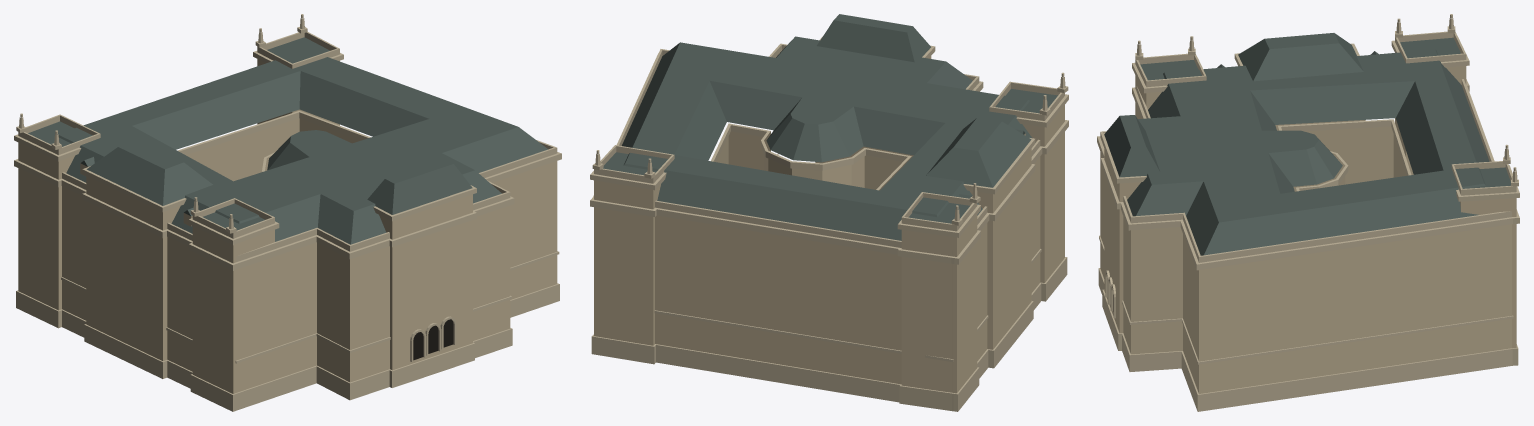
Rendered from academy.glb.
3 renders of one model, left to right at view 1: azimuth 30°, elevation 25°; view 2: azimuth 150°, elevation 25°; view 3: azimuth 270°, elevation 25°, orthographic. The views are drawn at different scales.
Visible parts, largest first — view 1: academy; view 2: academy; view 3: academy.
Part boxes in pixels (bbox=[...]): academy: bbox=[14, 14, 561, 411]; academy: bbox=[590, 14, 1068, 411]; academy: bbox=[1097, 14, 1519, 411].
Bounding box in the file's own units: 75.02 × 33.54 × 65.5.
